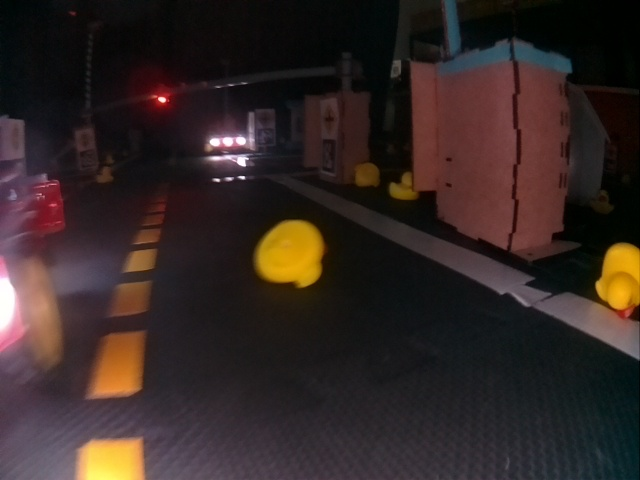Duckie: (255, 218, 326, 288), (595, 243, 639, 314), (388, 172, 418, 200), (354, 163, 379, 186), (97, 166, 114, 181)
Duckiebot: (1, 162, 67, 388), (209, 127, 247, 152)
Intersection sign: (321, 103, 337, 135), (257, 111, 272, 126)
QR code: (322, 139, 336, 171), (257, 128, 274, 145)
Traffic light: (156, 94, 168, 104)
